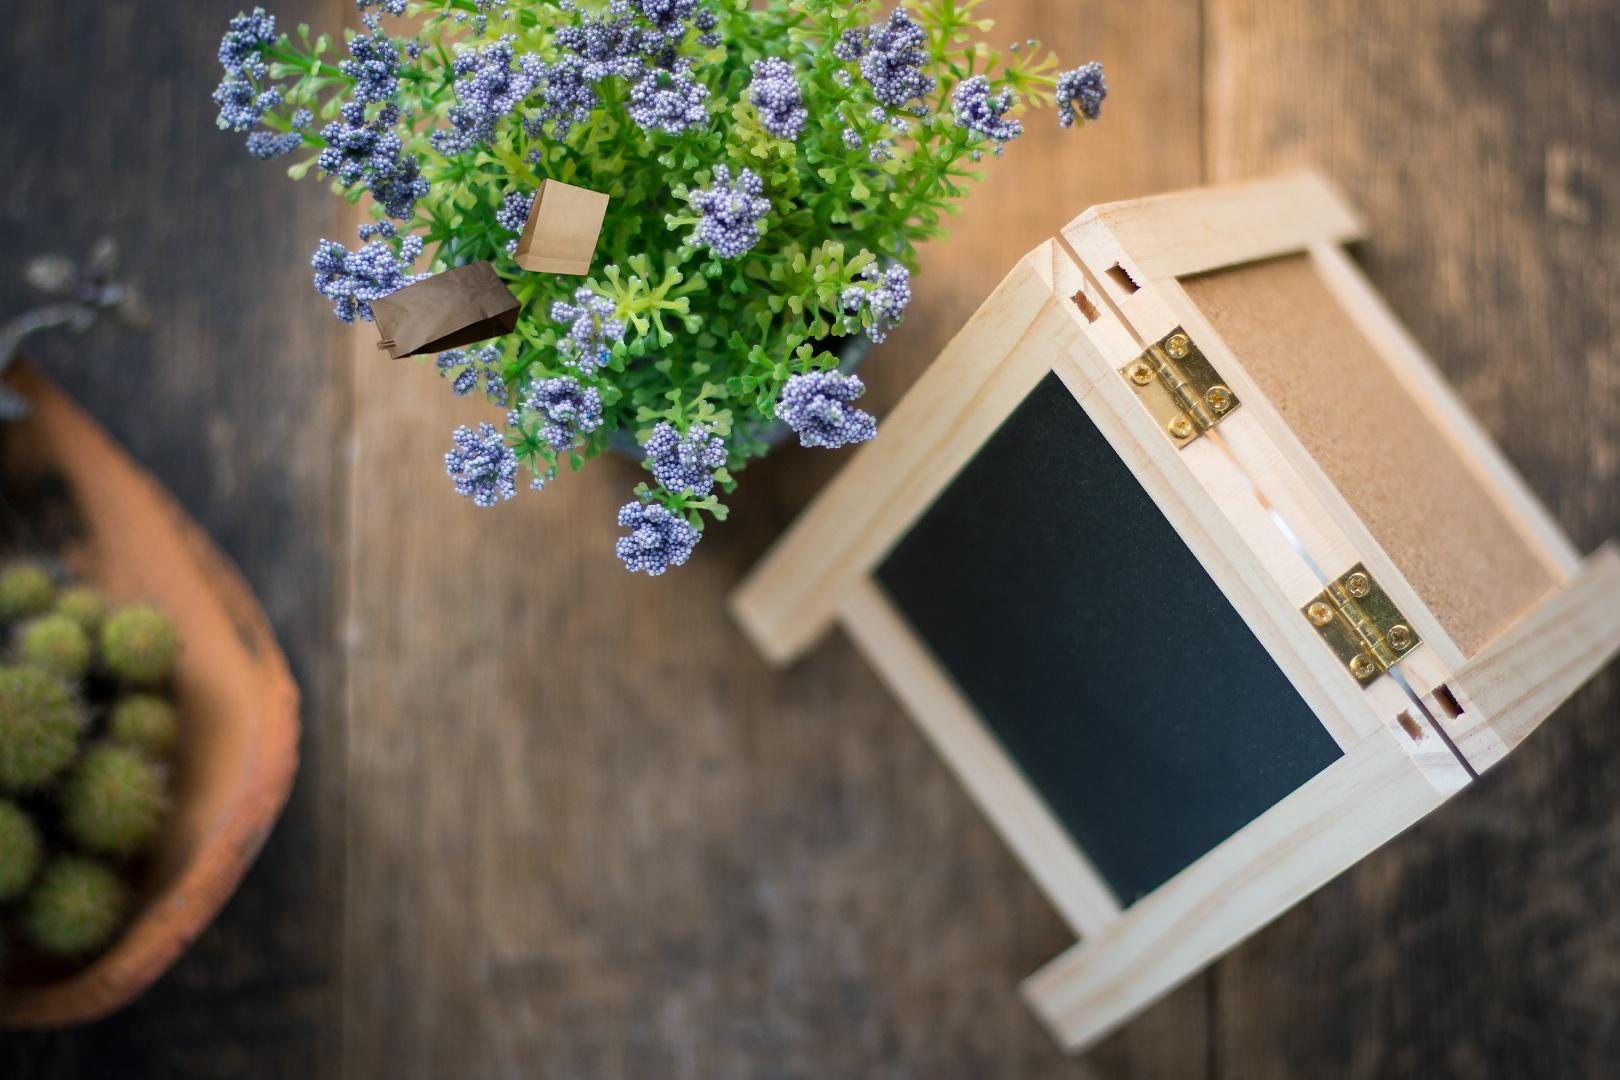paper-bag: (366, 174, 614, 362)
